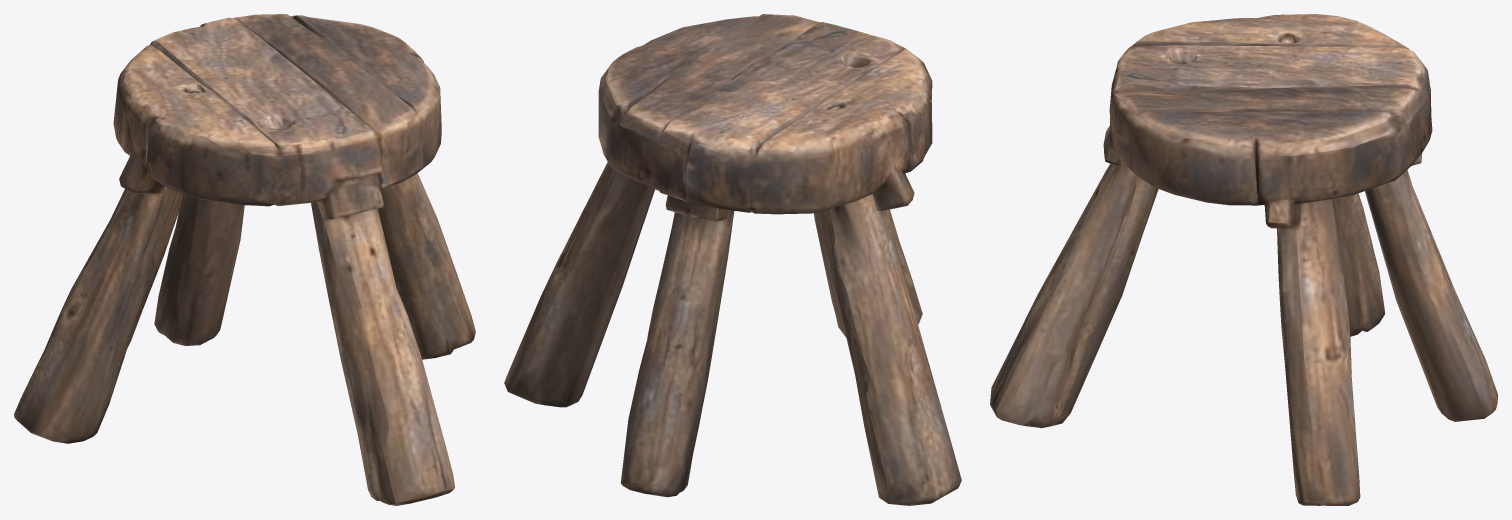
3 renders of one model, left to right at view 1: azimuth 30°, elevation 25°; view 2: azimuth 150°, elevation 25°; view 3: azimuth 270°, elevation 25°, orthographic. The views are drawn at different scales.
Visible parts, largest first — view 1: geometry_0; view 2: geometry_0; view 3: geometry_0.
Part boxes in pixels (<box>): geometry_0: <box>14,14,475,505</box>; geometry_0: <box>504,14,961,505</box>; geometry_0: <box>990,14,1497,505</box>.
Size of the model in its own units: 0.6023 by 0.4482 by 0.6029.
1 material, 1 textured.
